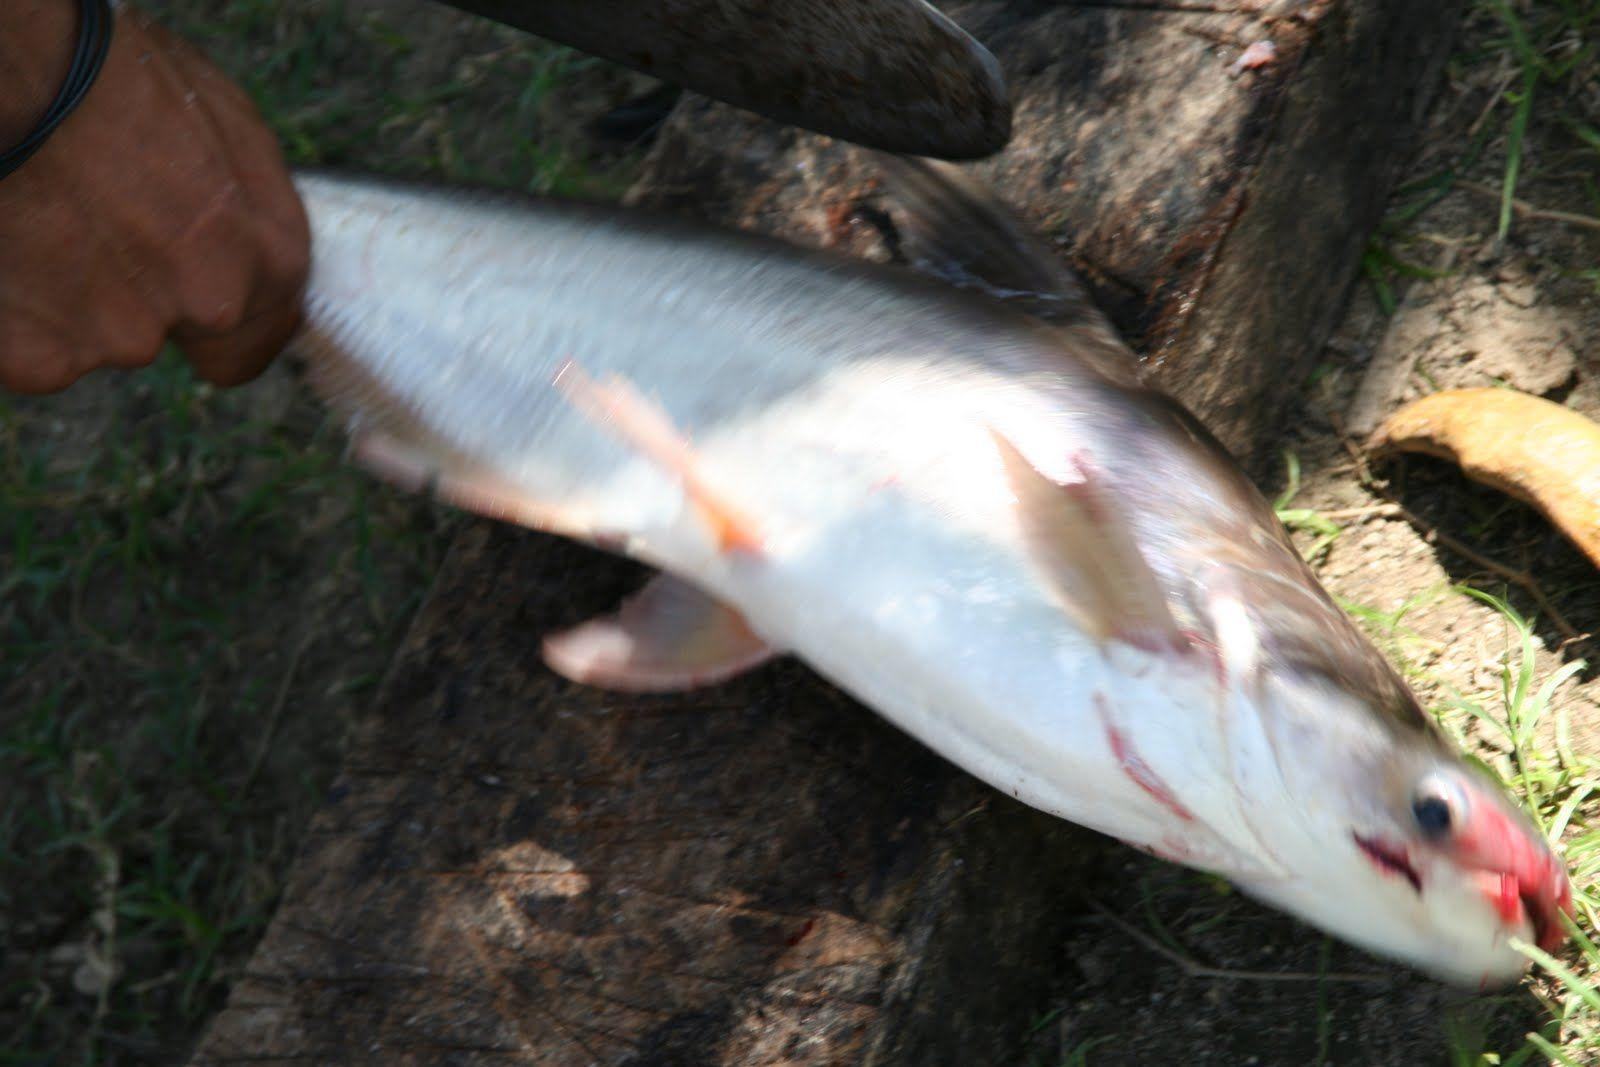Pangasius: (240, 137, 1565, 992)
